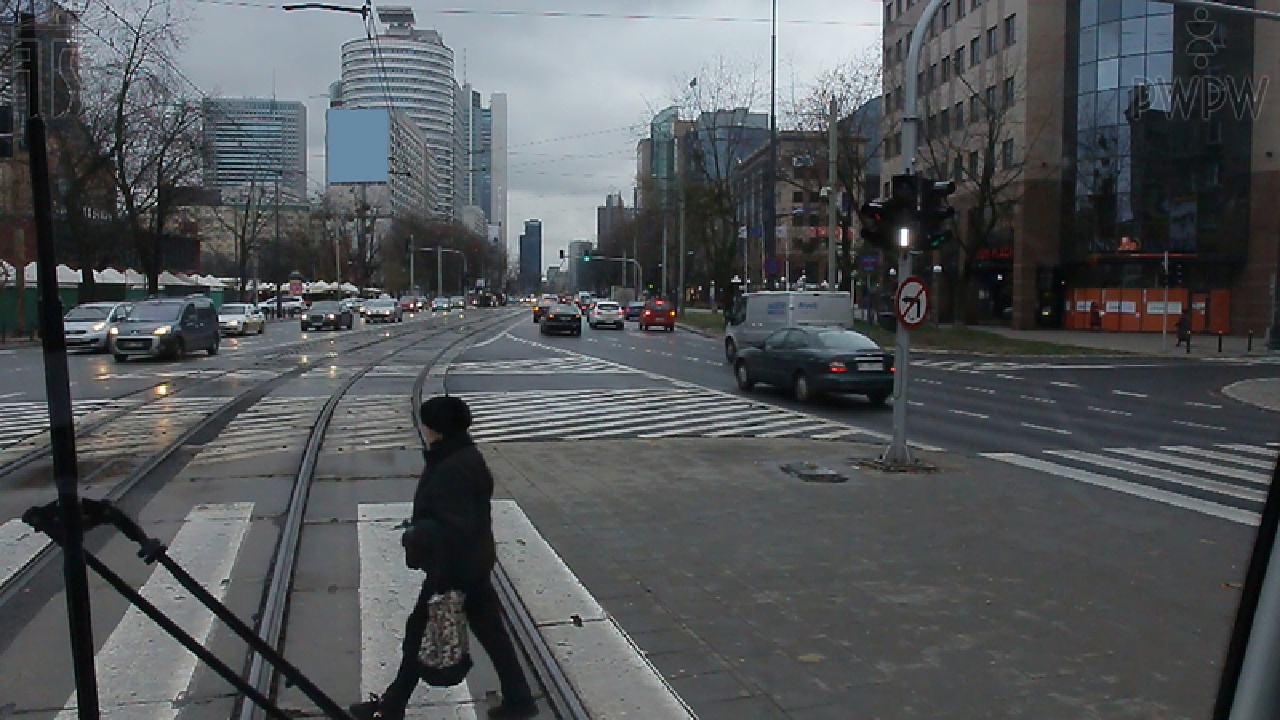B21: (894, 276, 928, 328)
